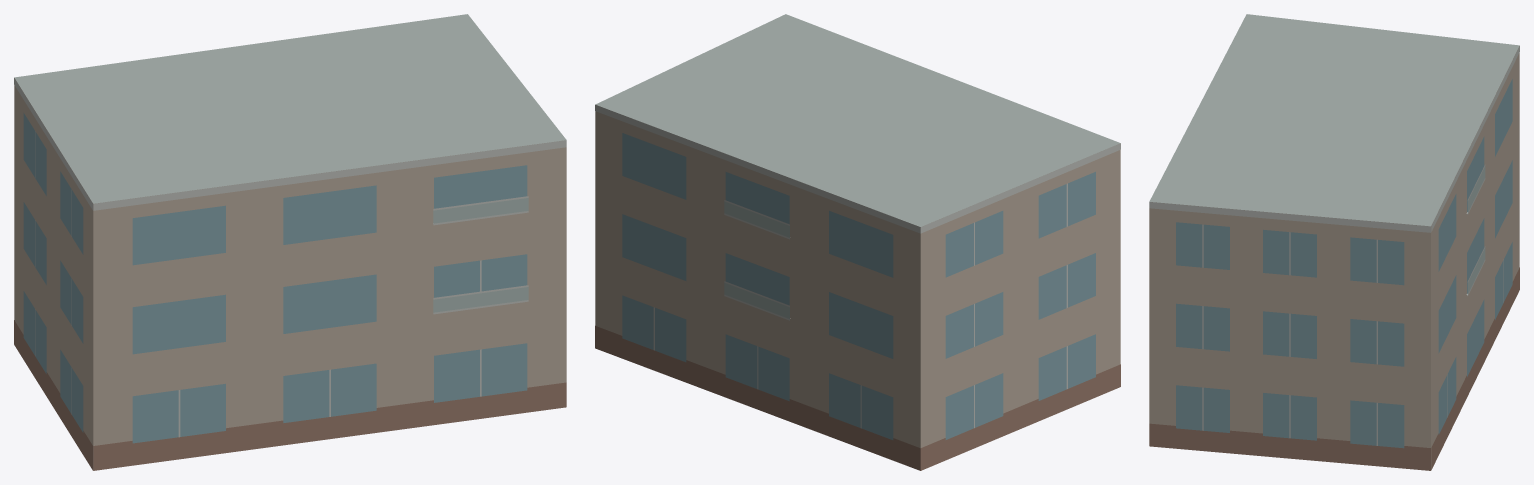
The model's file is survey-upis-33036616.glb.
The picture shows the model from 3 angles, left to right: view 1: azimuth 30°, elevation 25°; view 2: azimuth 150°, elevation 25°; view 3: azimuth 270°, elevation 25°; orthographic projection. The views are drawn at different scales.
Visible parts, largest first — view 1: survey-upis-33036616.tmp; view 2: survey-upis-33036616.tmp; view 3: survey-upis-33036616.tmp.
Part boxes in pixels (x1,y1,x2,y2): survey-upis-33036616.tmp: (14,14,566,470); survey-upis-33036616.tmp: (595,14,1120,470); survey-upis-33036616.tmp: (1149,14,1519,470).
Size of the model in its own units: 17.05 by 9.15 by 12.58.
